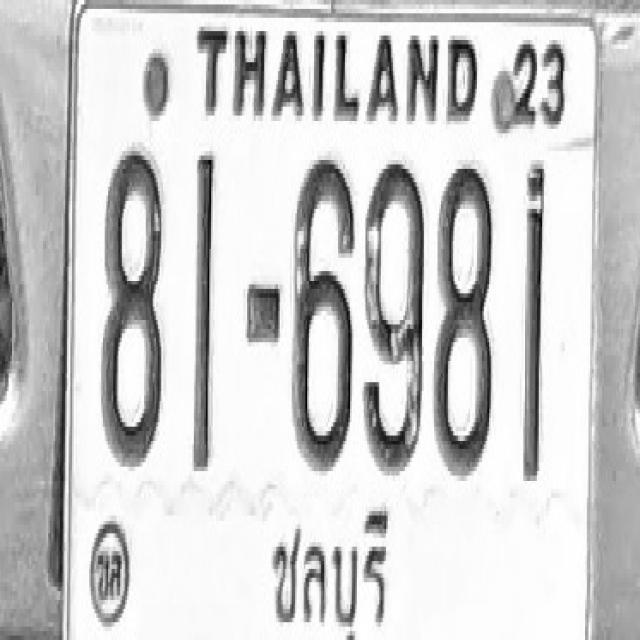1: (192, 151, 215, 471), (522, 173, 544, 480)
6: (292, 156, 354, 471)
8: (101, 146, 163, 466), (434, 162, 493, 474)
9: (363, 158, 425, 473)
Chonburi: (269, 501, 395, 640)
